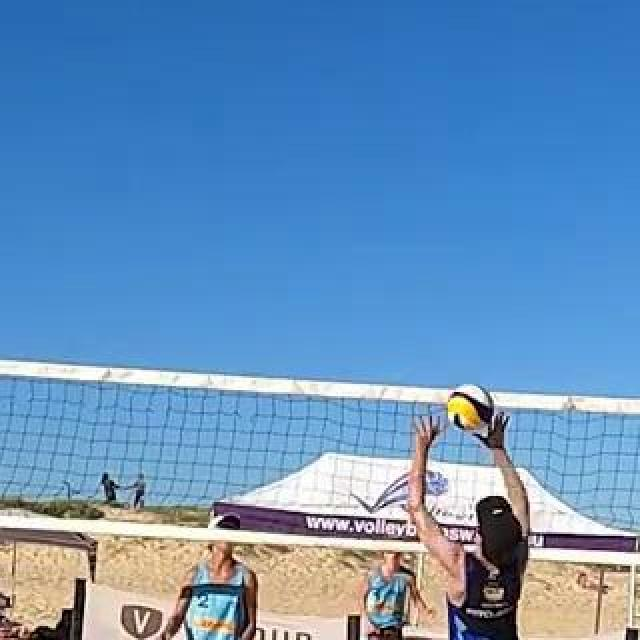volleyball: (447, 388, 493, 430)
